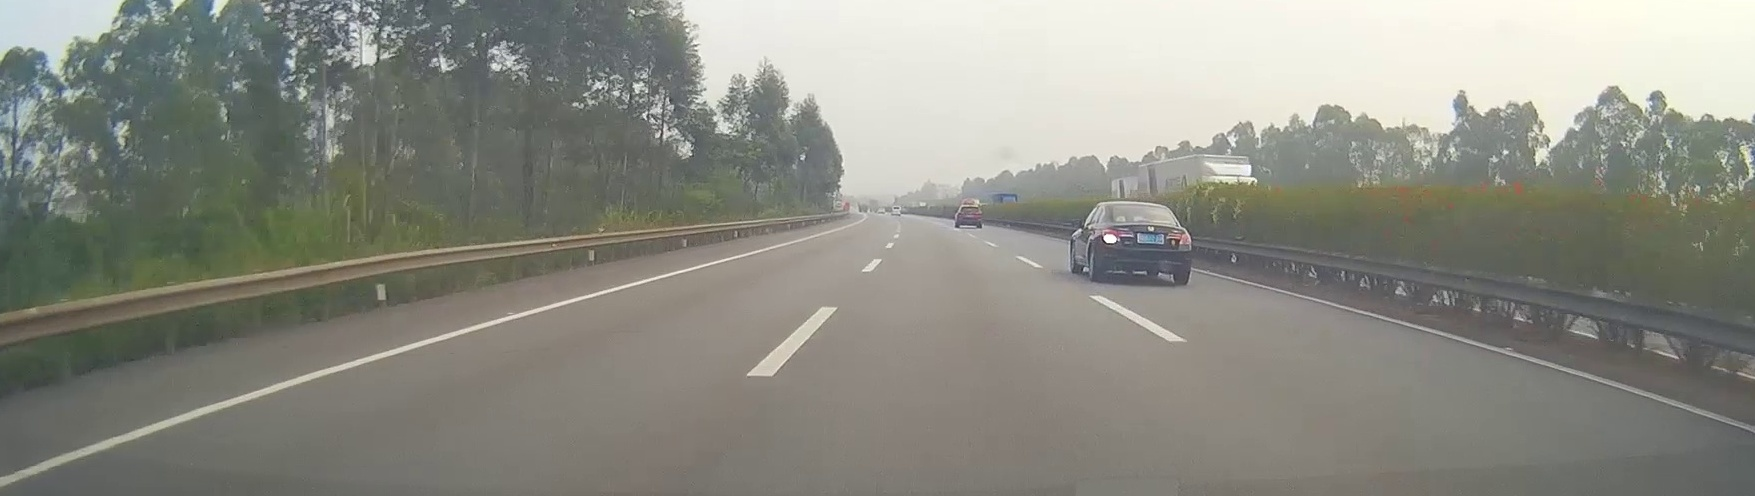L_light: (1101, 228, 1133, 244)
R_light: (1166, 232, 1191, 245)
T_light: (1134, 205, 1149, 207)
day-left: (1098, 200, 1192, 286)
